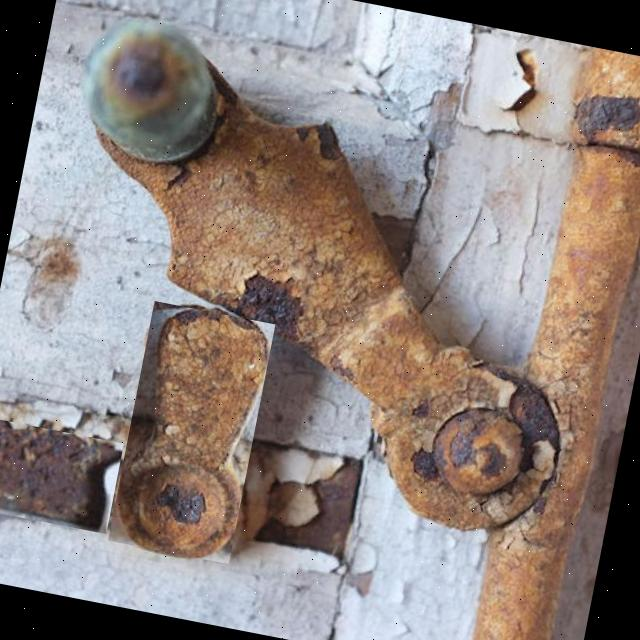Corrosion: (13, 9, 628, 552), (105, 295, 278, 566), (0, 407, 124, 532)
